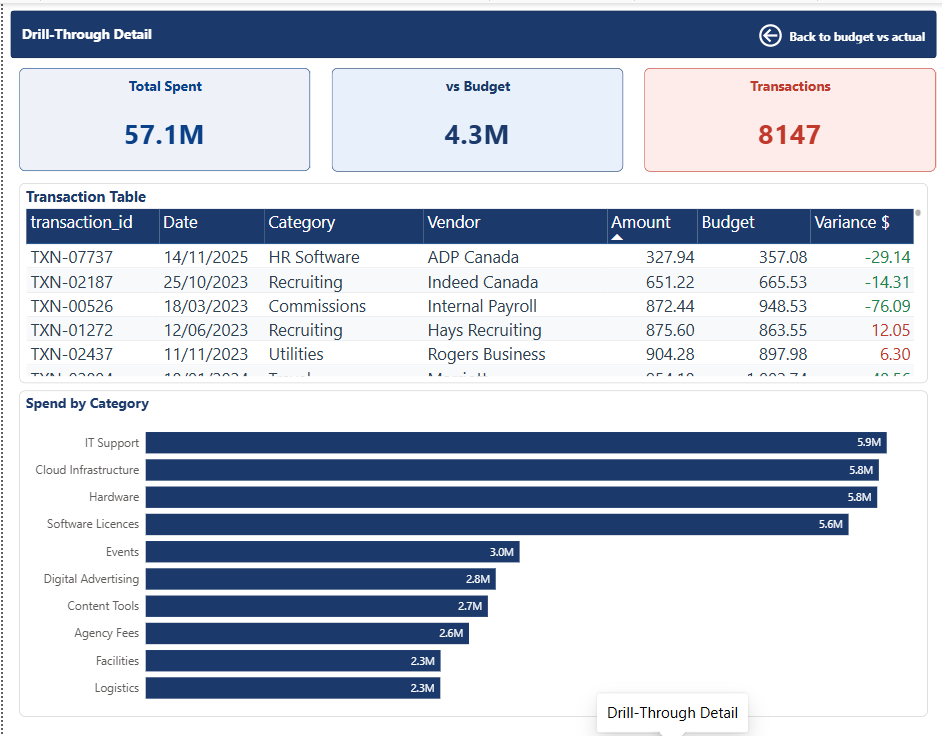

What the dashboard file says about the page in this screenshot:
{"tool":"powerbi","page":{"name":"Drill-Through Detail","canvas":[1280,1000],"ordinal":3},"visuals":[{"type":"shape","box":[9.8,11,1258.3,64.8],"z":0},{"type":"textbox","box":[20.4,23.8,441.6,40.8],"z":1},{"type":"actionButton","box":[1022.4,23.8,234.4,40.8],"z":2},{"type":"advanceCardE03760C5AB684758B56AA29F9E6C257B","title":"Total Spent","fields":{"mainMeasure":["_Measures.Total Expense"]},"box":[22,88.3,395,140],"z":3},{"type":"advanceCardE03760C5AB684758B56AA29F9E6C257B","title":"vs Budget","fields":{"mainMeasure":["_Measures.Budget Variance $"]},"box":[446.4,88.3,395.7,141],"z":4},{"type":"advanceCardE03760C5AB684758B56AA29F9E6C257B","title":"Transactions","fields":{"mainMeasure":["_Measures.Transaction Count"]},"box":[871.6,88.3,395.7,141],"z":5},{"type":"tableEx","title":"Transaction Table","fields":{"Values":["production fact_financials.transaction_id","production dim_date.full_date","production dim_category.category_name","production fact_financials.vendor","production fact_financials.amount","production fact_financials.budget_amount","_Measures.Budget Variance $"]},"box":[22.1,244.6,1234.7,271.7],"z":6},{"type":"clusteredBarChart","title":"Spend by Category","fields":{"Category":["production dim_category.category_name"],"Y":["_Measures.Total Expense"]},"box":[22.1,526.5,1234.7,443.3],"z":7}]}

Visuals, with their boxes in screenshot pixels (x1, y1, x2, y2), scaled from the page's 1280x1000 canvas onto the 942x736 screenshot:
shape: [x1=7, y1=8, x2=933, y2=56]
textbox: [x1=15, y1=18, x2=340, y2=48]
actionButton: [x1=752, y1=18, x2=925, y2=48]
"Total Spent" advanceCardE03760C5AB684758B56AA29F9E6C257B: [x1=16, y1=65, x2=307, y2=168]
"vs Budget" advanceCardE03760C5AB684758B56AA29F9E6C257B: [x1=329, y1=65, x2=620, y2=169]
"Transactions" advanceCardE03760C5AB684758B56AA29F9E6C257B: [x1=641, y1=65, x2=933, y2=169]
"Transaction Table" tableEx: [x1=16, y1=180, x2=925, y2=380]
"Spend by Category" clusteredBarChart: [x1=16, y1=388, x2=925, y2=714]
